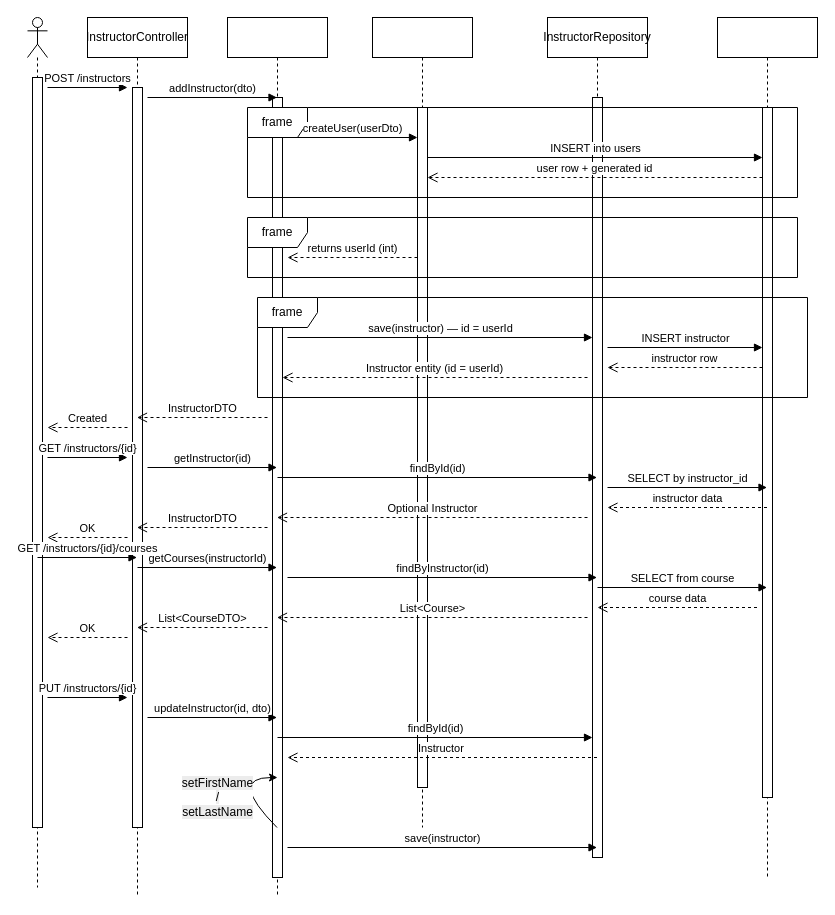
This 835x915 diagram has some shape labels left out. The box of each missing label's shape, as (x1, y1, x2, y2) in pixels:
DB: (716, 16, 818, 878)
Instructor Service: (226, 16, 328, 898)
User Service (Auth): (372, 16, 472, 828)
